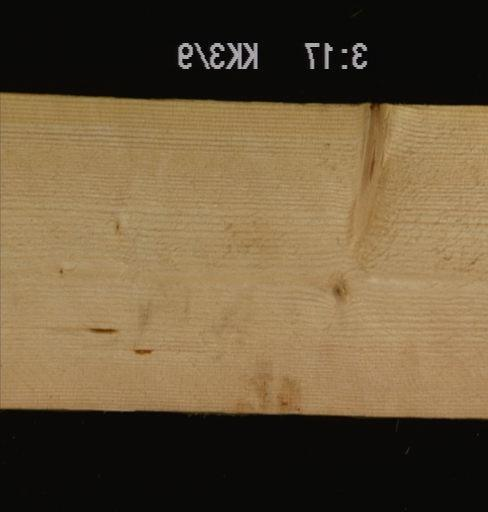small_knot: (327, 269, 351, 308)
